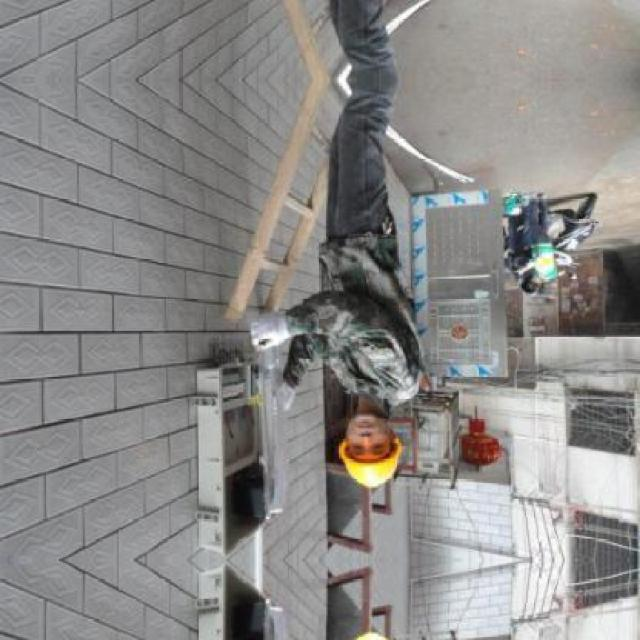safetyhelmet: (329, 409, 415, 493)
